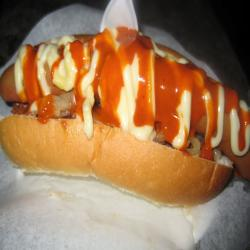hotdog: (2, 40, 250, 214)
